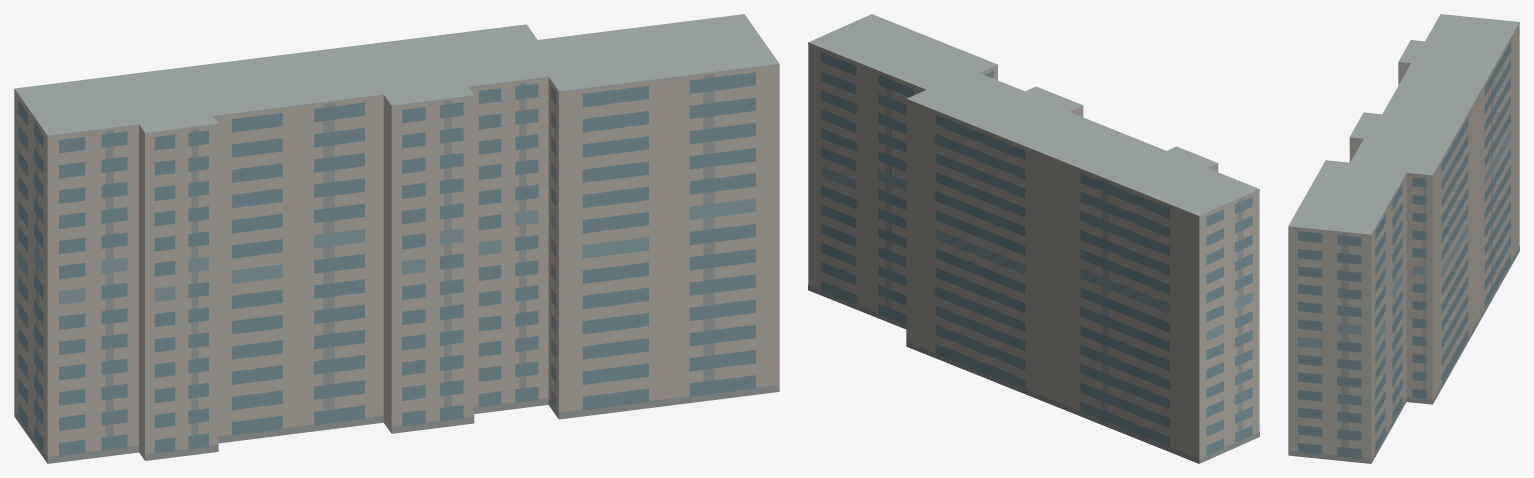
File: residential-01ff52bd-cf0a-4c7a-a986-b28c586a54a3.glb
3 renders of one model, left to right at view 1: azimuth 30°, elevation 25°; view 2: azimuth 150°, elevation 25°; view 3: azimuth 270°, elevation 25°, orthographic. The views are drawn at different scales.
Visible parts, largest first — view 1: residential-01ff52bd-cf0a-4c7a-a986-b28c586a54a3.tmp; view 2: residential-01ff52bd-cf0a-4c7a-a986-b28c586a54a3.tmp; view 3: residential-01ff52bd-cf0a-4c7a-a986-b28c586a54a3.tmp.
Part boxes in pixels (bbox=[...]): residential-01ff52bd-cf0a-4c7a-a986-b28c586a54a3.tmp: bbox=[14, 14, 779, 463]; residential-01ff52bd-cf0a-4c7a-a986-b28c586a54a3.tmp: bbox=[808, 14, 1259, 463]; residential-01ff52bd-cf0a-4c7a-a986-b28c586a54a3.tmp: bbox=[1288, 14, 1519, 463].
Size of the model in its own units: 76.39 by 37 by 33.89.
